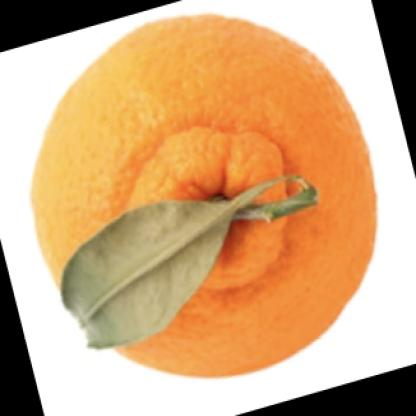fresh: (33, 14, 377, 377)
